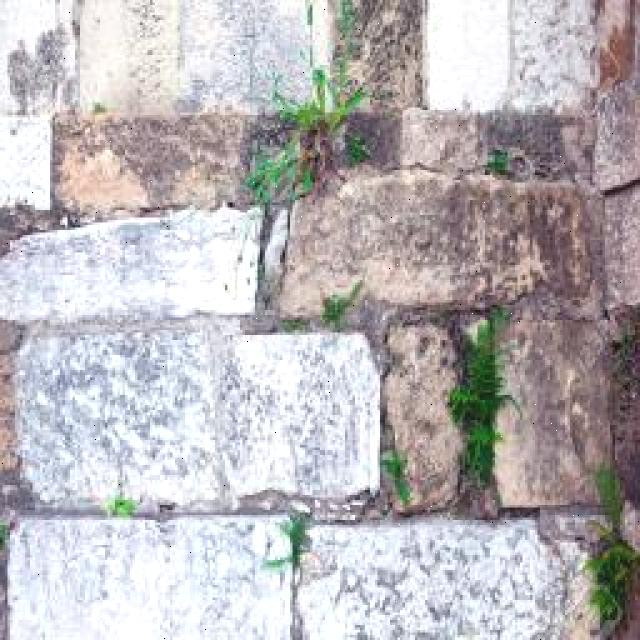vegetation: (248, 76, 410, 233), (445, 305, 521, 490), (577, 462, 640, 631), (260, 508, 313, 576), (319, 279, 364, 330)
